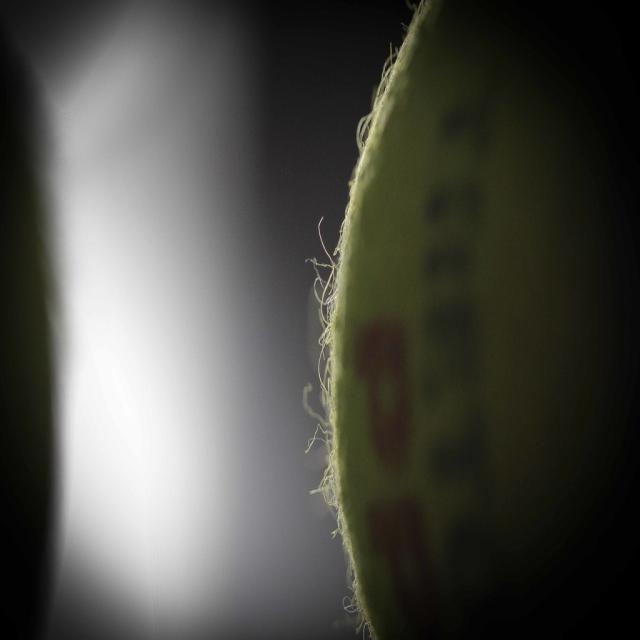Tennis ball: (320, 1, 638, 638)
